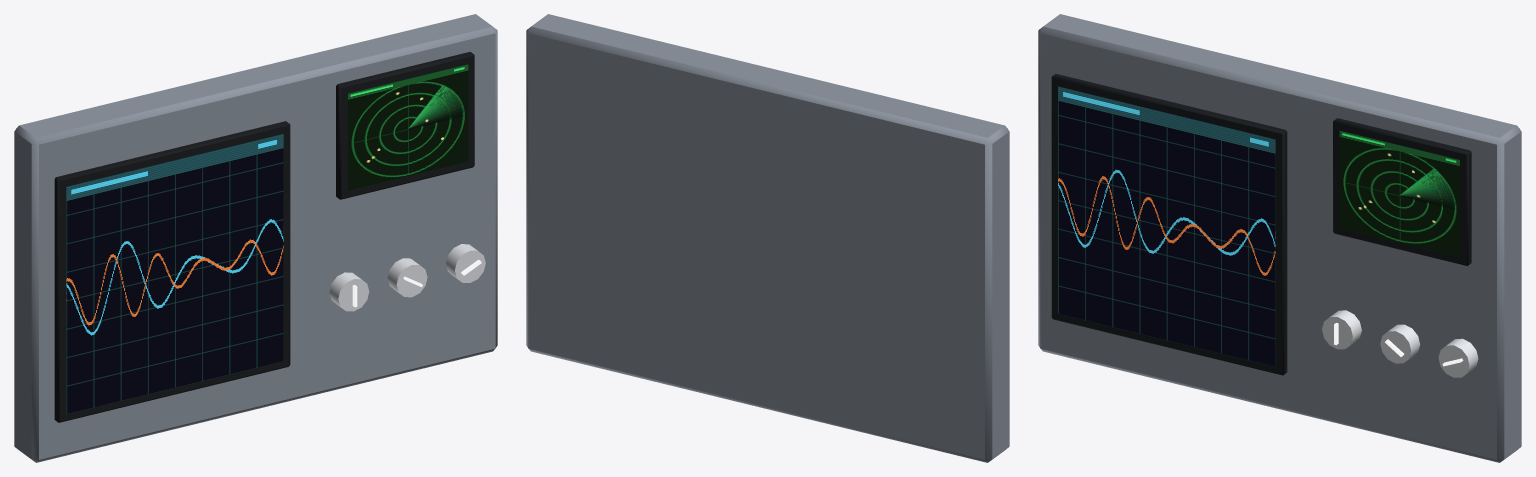
The model's file is display_scope_rack.glb.
3 renders of one model, left to right at view 1: azimuth 30°, elevation 25°; view 2: azimuth 150°, elevation 25°; view 3: azimuth 330°, elevation 25°, orthographic.
Visible parts, largest first — view 1: display_scope_rack; view 2: display_scope_rack; view 3: display_scope_rack.
Part boxes in pixels (left/top/right/bottom): display_scope_rack: left=14, top=14, right=497, bottom=462; display_scope_rack: left=526, top=14, right=1009, bottom=462; display_scope_rack: left=1038, top=14, right=1521, bottom=462.
Bounding box in the file's own units: 1.2 × 0.8 × 0.15.
6 materials, 2 textured.
